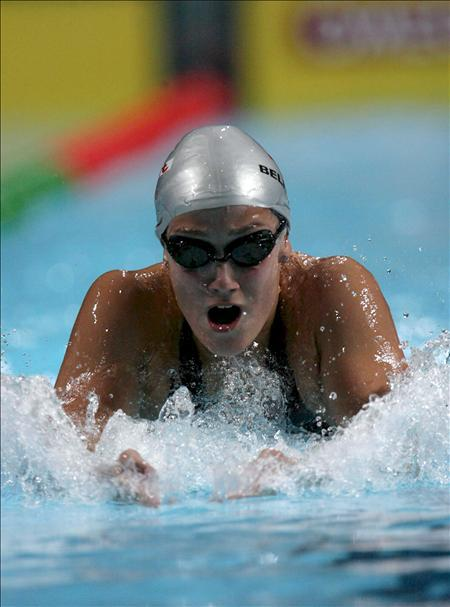swimmer: (52, 123, 410, 480)
